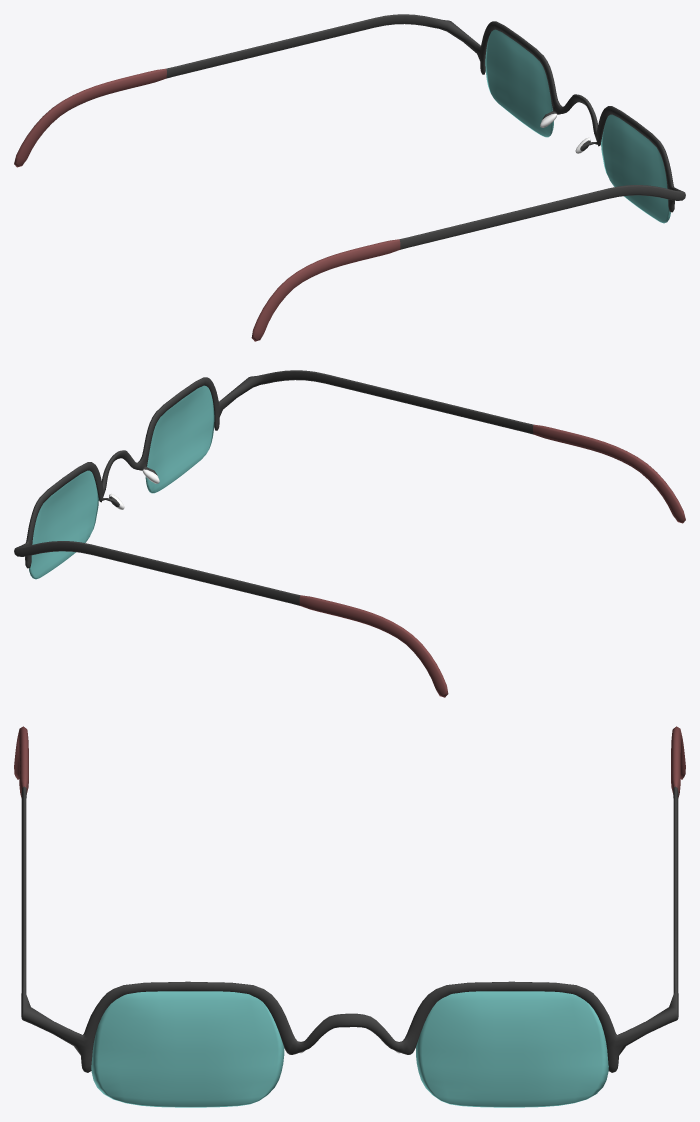
File: GlassesNormal.fbx
3 renders of one model, top to bottom at view 1: azimuth 30°, elevation 25°; view 2: azimuth 150°, elevation 25°; view 3: azimuth 270°, elevation 25°, orthographic. The views are drawn at different scales.
Visible parts, largest first — view 1: polySurface5; view 2: polySurface5; view 3: polySurface5.
Boxes of the visible parts, x1,y1,x2,y2 form: polySurface5: (14,14,685,341); polySurface5: (14,370,685,697); polySurface5: (14,726,685,1107).
Bounding box in the file's own units: 186 × 34.55 × 171.
